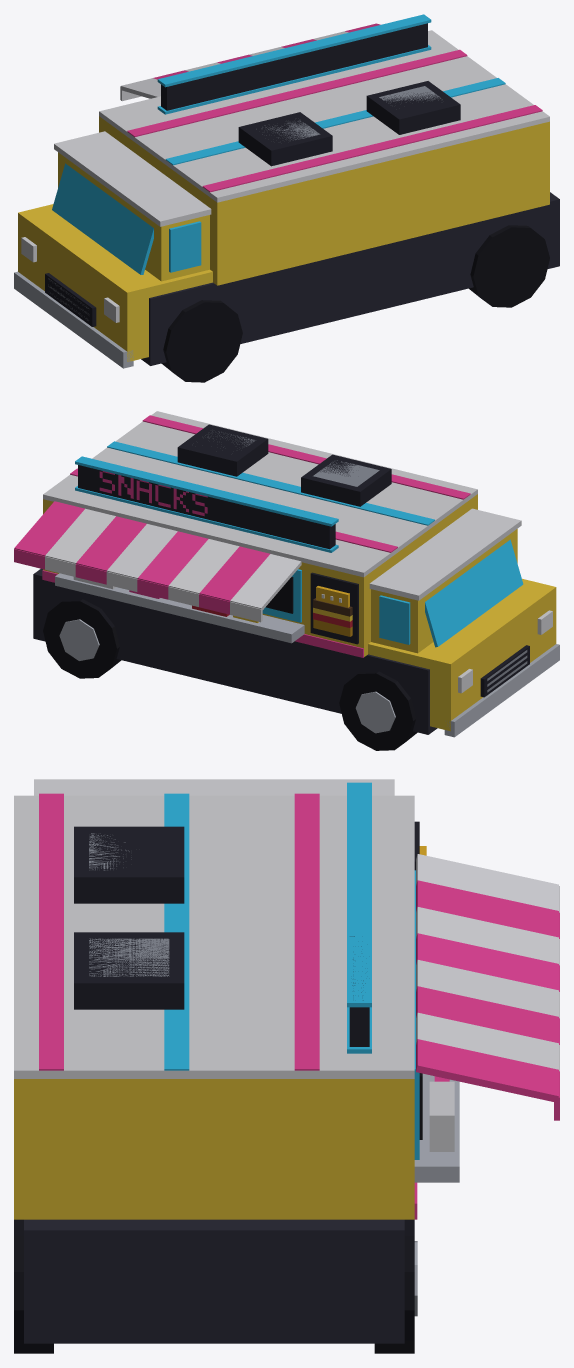
Rendered from Decor_DJStage_FoodTruck.fbx.
The picture shows the model from 3 angles, top to bottom: view 1: azimuth 30°, elevation 25°; view 2: azimuth 150°, elevation 25°; view 3: azimuth 270°, elevation 25°; orthographic projection. The views are drawn at different scales.
Visible parts, largest first — view 1: FoodTruck_Body; view 2: FoodTruck_Body; view 3: FoodTruck_Body.
Boxes of the visible parts, x1=… form: FoodTruck_Body: x1=14, y1=14, x2=559, y2=382; FoodTruck_Body: x1=14, y1=411, x2=559, y2=750; FoodTruck_Body: x1=14, y1=779, x2=559, y2=1353.
Bounding box in the file's own units: 17 × 7.9 × 10.9.
